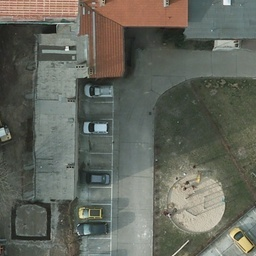car: (75, 223, 112, 238), (83, 85, 114, 100), (83, 119, 110, 134), (85, 173, 110, 187), (78, 208, 104, 220)
